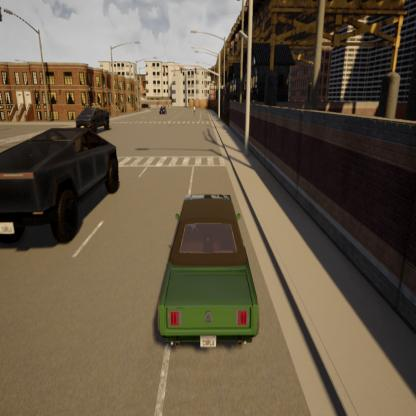Cars: (148, 188, 264, 361), (0, 123, 123, 251), (74, 104, 112, 134), (157, 104, 169, 116), (140, 101, 152, 110)
